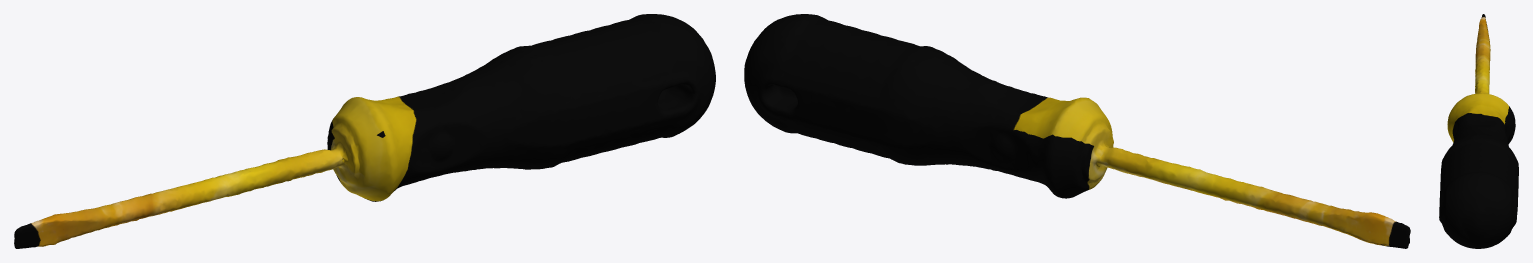
The picture shows the model from 3 angles, left to right: view 1: azimuth 30°, elevation 25°; view 2: azimuth 150°, elevation 25°; view 3: azimuth 270°, elevation 25°; orthographic projection. The views are drawn at different scales.
Visible parts, largest first — view 1: textured.001; view 2: textured.001; view 3: textured.001.
Part boxes in pixels (box(x1,y1,x2,y2)): textured.001: box(14, 14, 715, 248); textured.001: box(744, 14, 1410, 248); textured.001: box(1439, 14, 1518, 248).
Size of the model in its own units: 0.3241 by 0.0525 by 0.0512.
